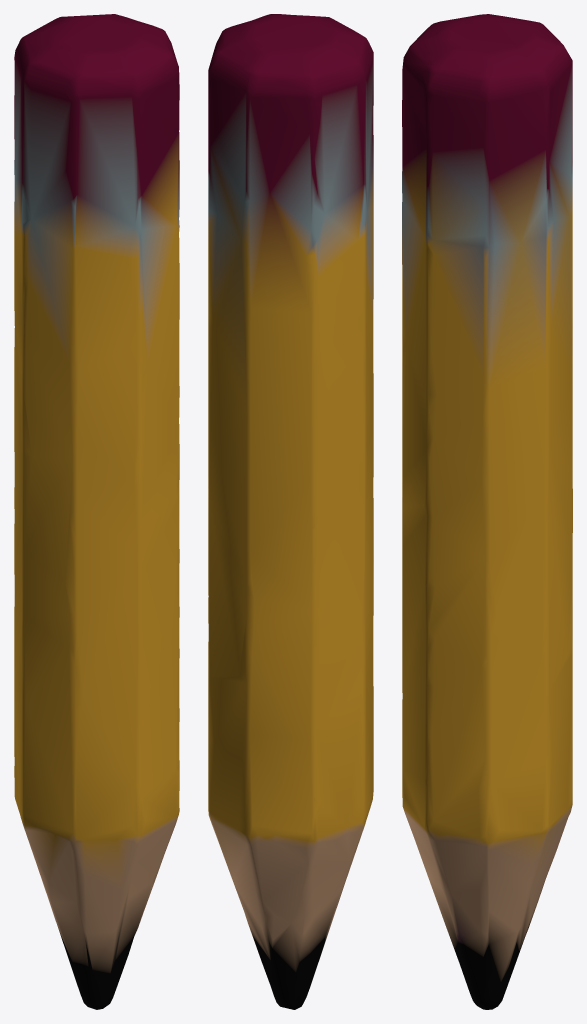
The model's file is gen3d-pencil-lod1.glb.
3 views of the same model, side by side, from view 1: azimuth 30°, elevation 25°; view 2: azimuth 150°, elevation 25°; view 3: azimuth 270°, elevation 25° (orthographic).
Parts seen in each view (by area): view 1: part_0; view 2: part_0; view 3: part_0.
Boxes of the visible parts, <box> form: part_0: <box>14,14,179,1009</box>; part_0: <box>208,14,373,1009</box>; part_0: <box>402,14,572,1009</box>.
Size of the model in its own units: 0.159 by 0.9997 by 0.1593.
